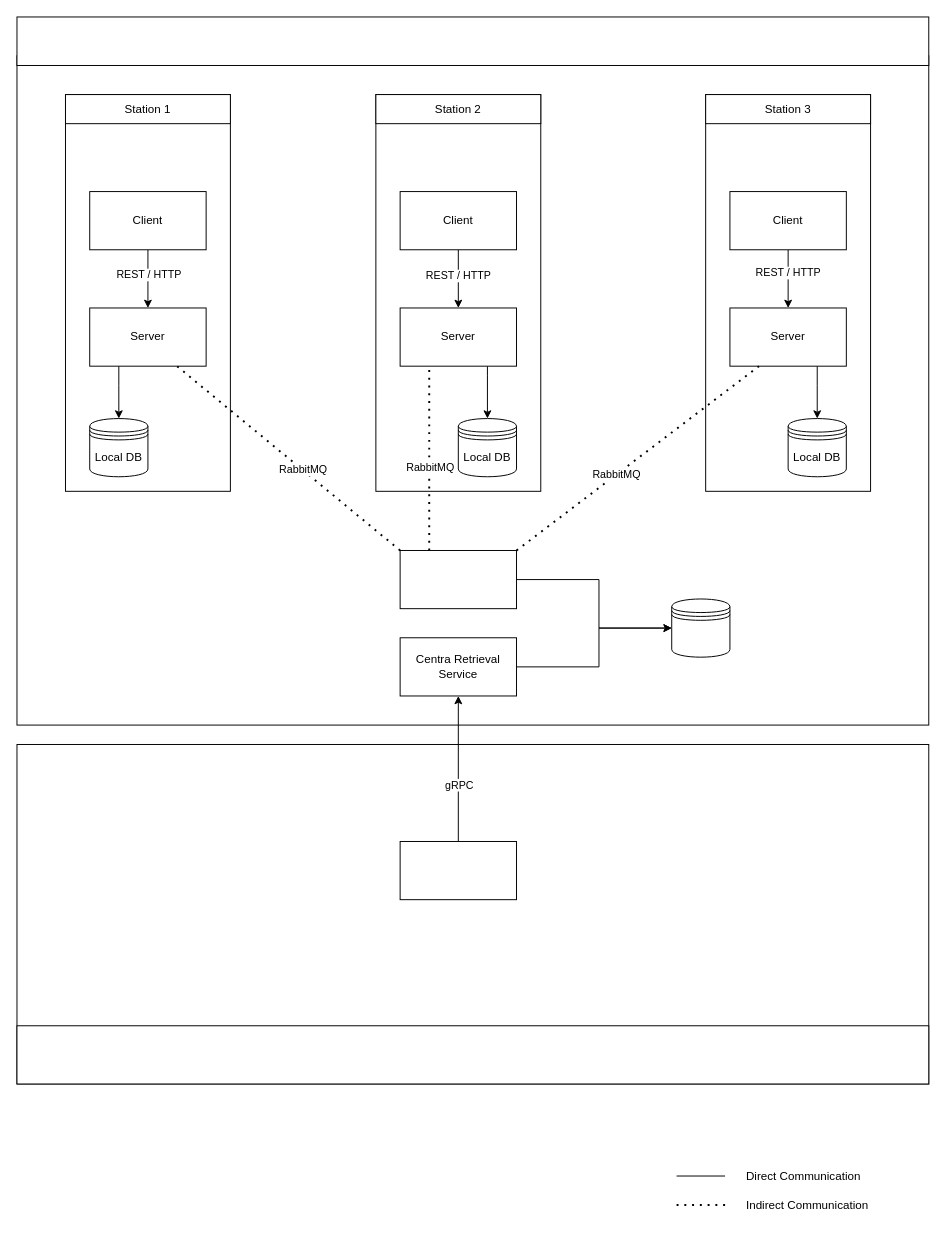
Image size: 946x1237. Some labels were removed from this diagram. The shapes that lost their labels are listed below. From the top down, each one's centre as x and y in pixels, then its label:
At (x=472, y=40): "Slaughterhouse".
At (x=458, y=579): "Central Registration Server".
At (x=700, y=627): "Main DB".
At (x=458, y=870): "Data-retrieval Client".
At (x=472, y=1054): "External".
